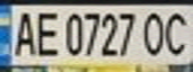0: (60, 8, 84, 57)
2: (100, 8, 121, 57)
7: (115, 8, 142, 57), (81, 8, 103, 57)
A: (9, 7, 39, 58)
C: (160, 8, 193, 57)
E: (30, 7, 63, 57)
O: (139, 8, 172, 57)
